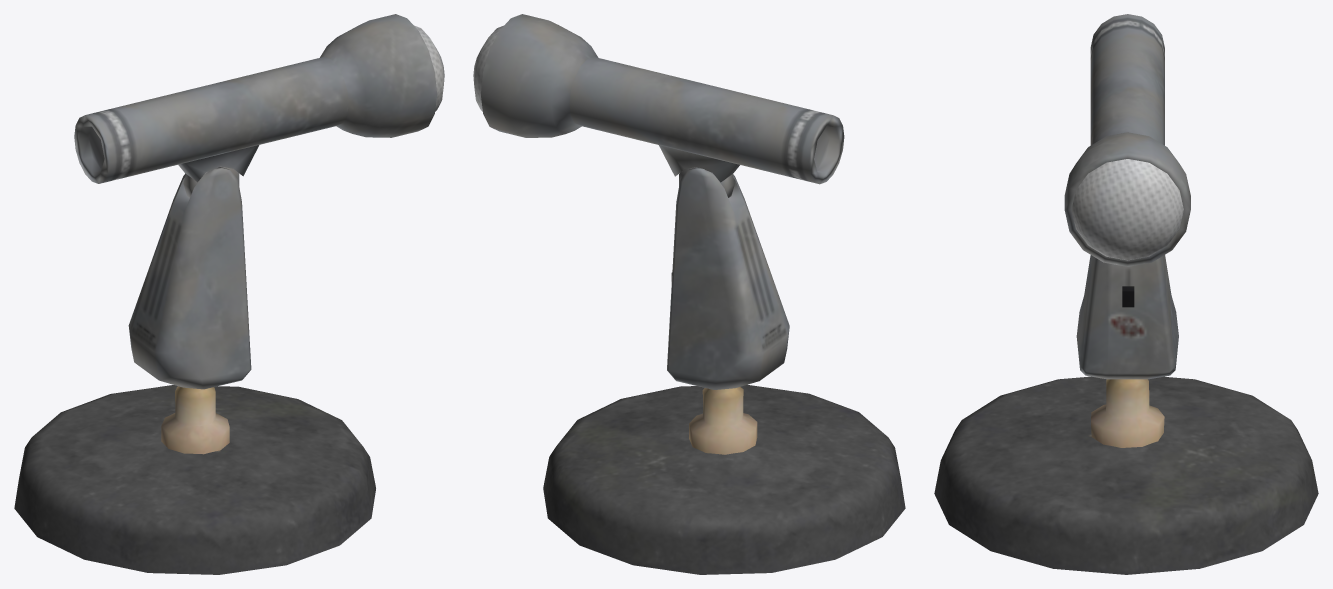
File: microphone_mini.gltf
3 views of the same model, side by side, from view 1: azimuth 30°, elevation 25°; view 2: azimuth 150°, elevation 25°; view 3: azimuth 270°, elevation 25° (orthographic). The views are drawn at different scales.
Parts seen in each view (by area): view 1: Microphone_34; view 2: Microphone_34; view 3: Microphone_34.
Boxes of the visible parts, left/top/right/bottom form: Microphone_34: left=14, top=14, right=444, bottom=574; Microphone_34: left=473, top=14, right=905, bottom=574; Microphone_34: left=934, top=14, right=1318, bottom=574.
Size of the model in its own units: 0.1927 by 0.1973 by 0.1525.
1 material, 1 textured.
